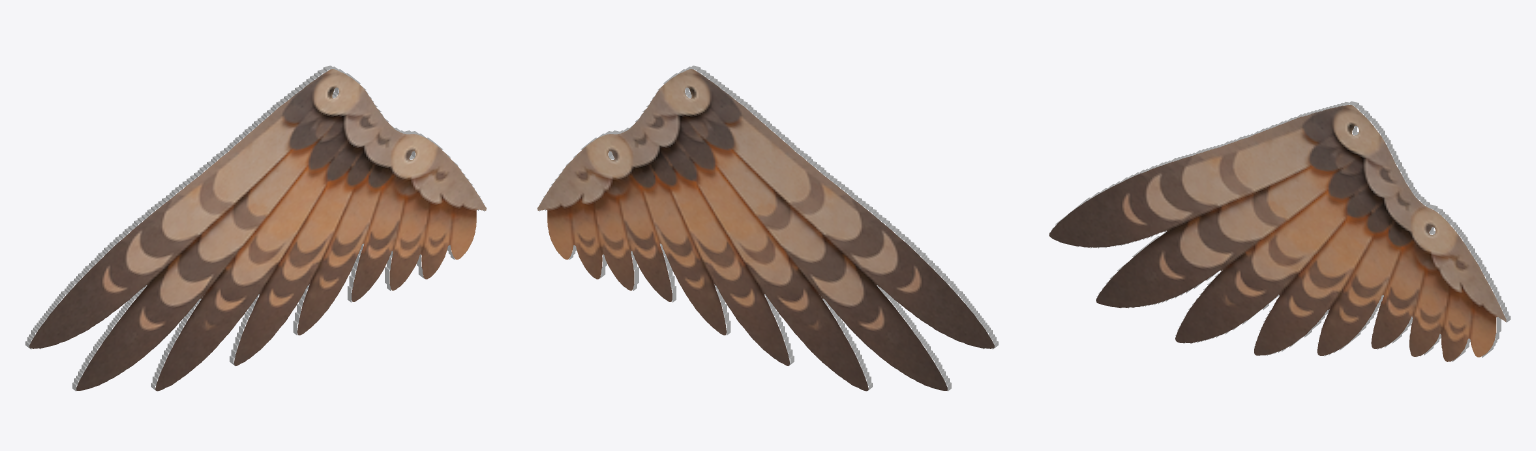
Rendered from FanLeft.glb.
3 renders of one model, left to right at view 1: azimuth 30°, elevation 25°; view 2: azimuth 150°, elevation 25°; view 3: azimuth 330°, elevation 25°, orthographic.
Parts seen in each view (by area): view 1: PaperVolume; view 2: PaperVolume; view 3: PaperVolume.
Boxes of the visible parts, box(x1,y1,x2,y2) form: PaperVolume: box(25, 65, 486, 391); PaperVolume: box(537, 65, 998, 391); PaperVolume: box(1049, 101, 1510, 361).
Size of the model in its own units: 5.4 by 3.26 by 0.08.
Materials: 3 (2 with a texture image).
